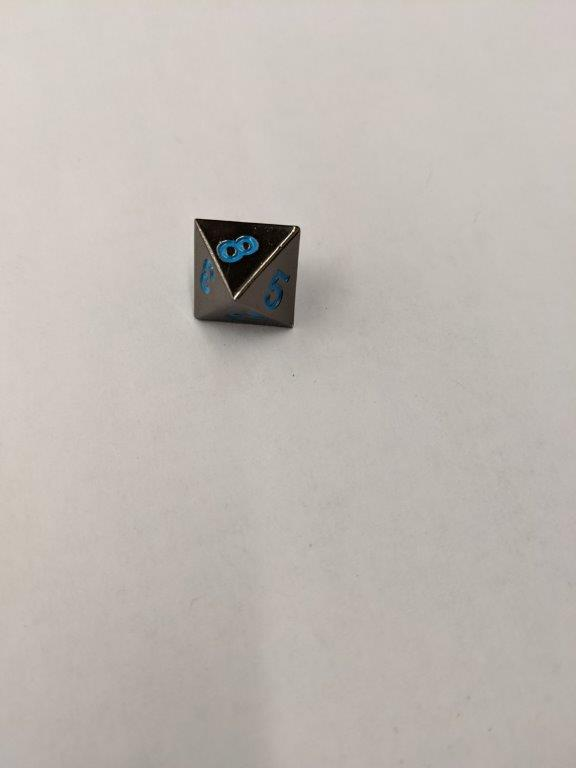d8-8: (192, 219, 300, 331)
